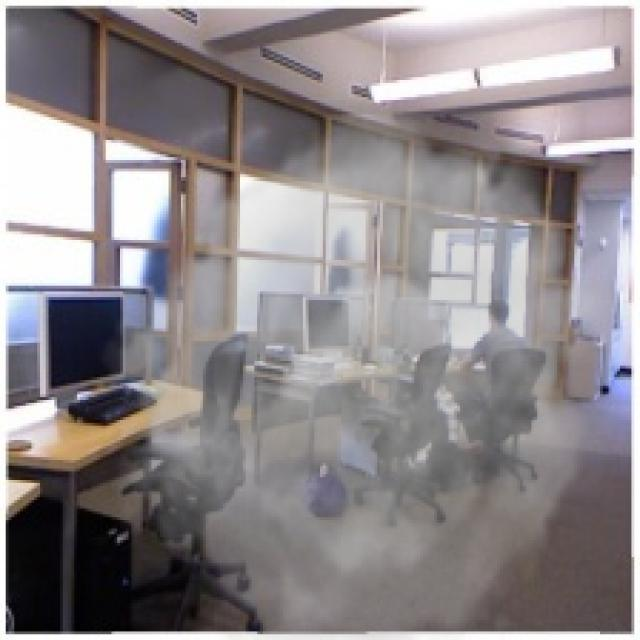smoke: (97, 114, 626, 637)
